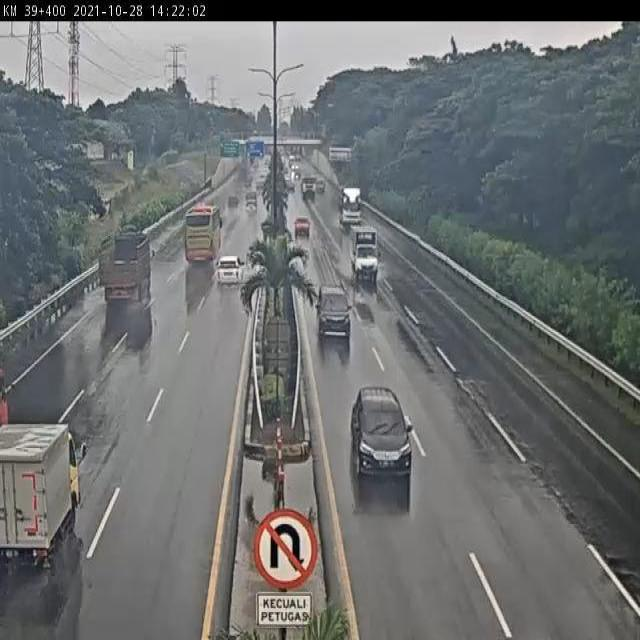ARABA: (348, 383, 415, 481), (315, 281, 352, 336), (212, 255, 245, 288), (292, 212, 312, 236)
KAMYONET: (0, 417, 81, 567), (100, 233, 153, 304), (349, 224, 381, 281)
OTOBUS: (183, 205, 223, 268)
